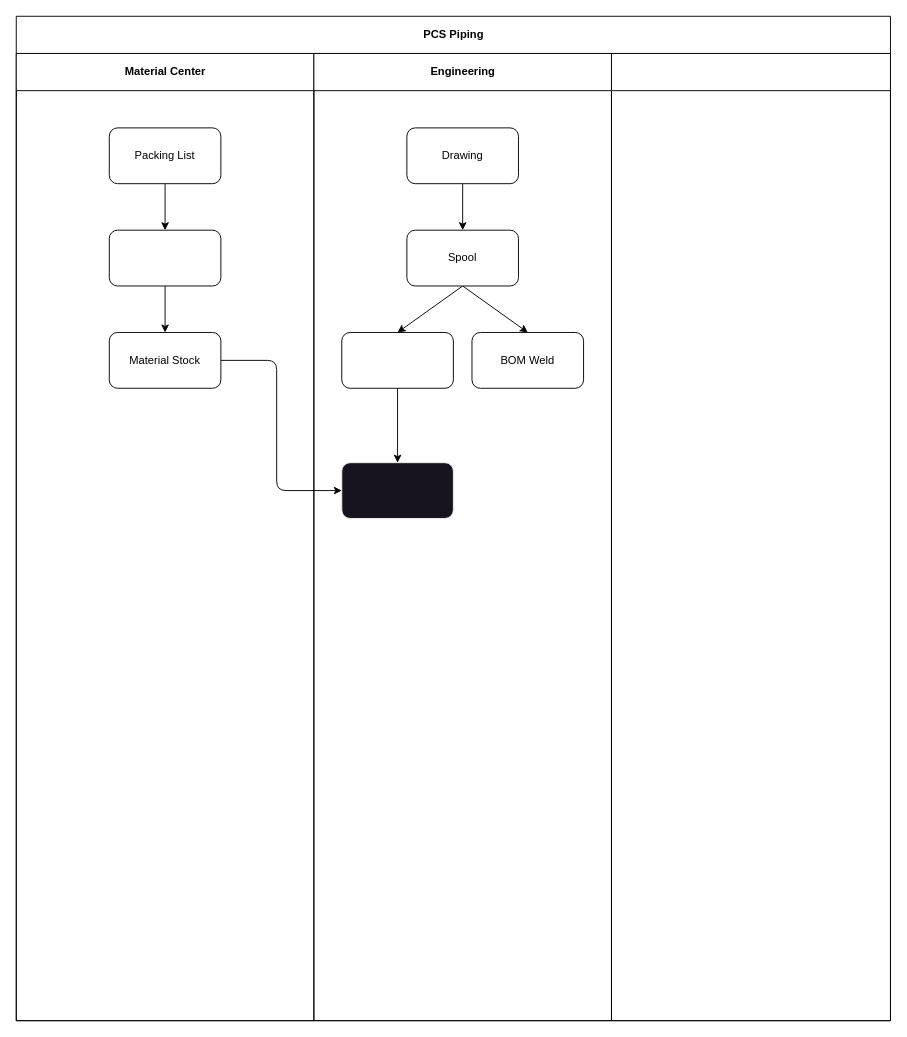
Some shapes in this 907 by 1037 pixel diagram are drawn without their labels. The shapes that lost their labels are listed below. From the top down, each one's centre as x and y in pixels, then its label:
(x=164, y=257): Material Receive
(x=397, y=360): BOM Mat
(x=397, y=490): Matching Material
(x=750, y=537): Lane 3
